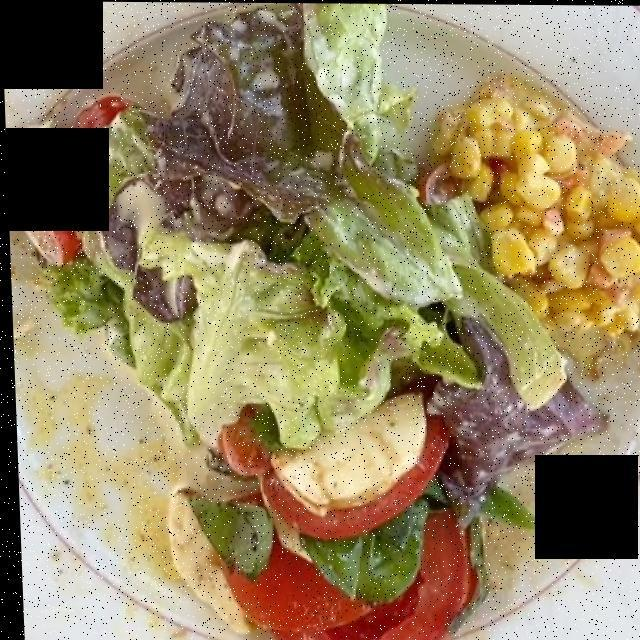salad: (55, 6, 566, 480)
sweet-corn-canned: (428, 81, 640, 364)
